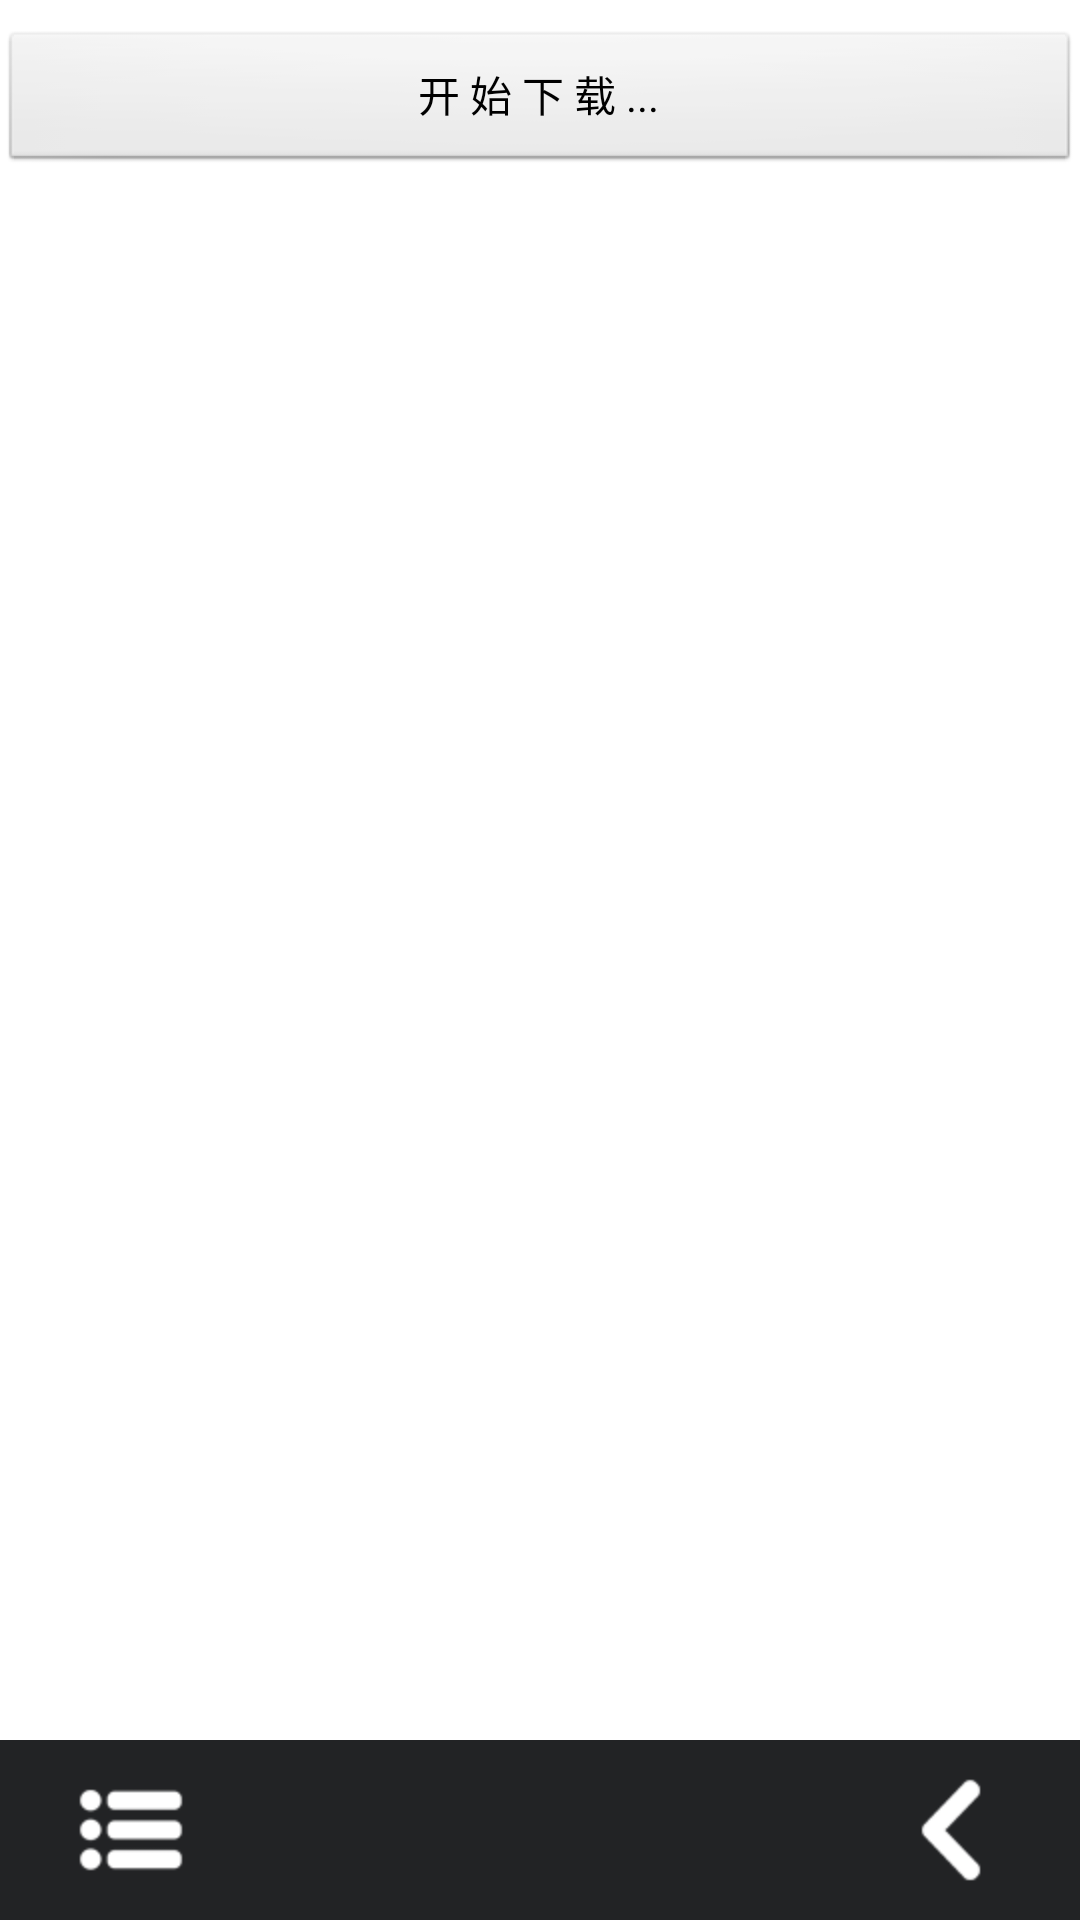

Where to tap for icons on this 1080px×1920px app screen, as (x,y):
bottom back: (951,1830)
bottom menu: (131,1830)
